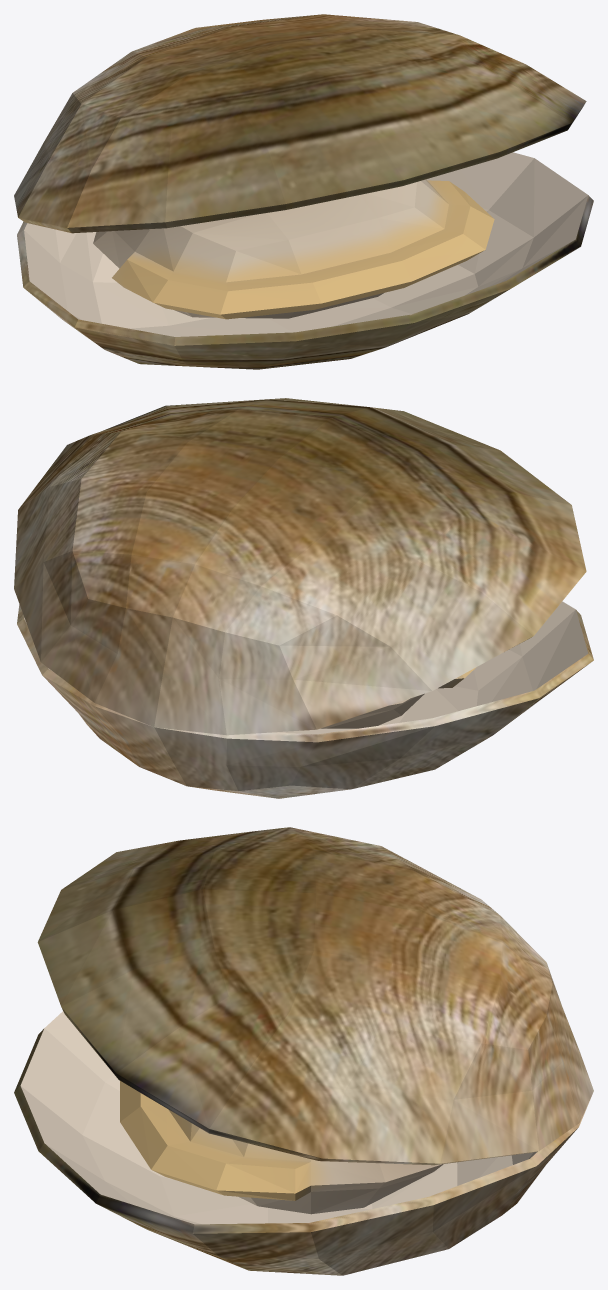
The model's file is Clam.glb.
3 renders of one model, top to bottom at view 1: azimuth 30°, elevation 25°; view 2: azimuth 150°, elevation 25°; view 3: azimuth 270°, elevation 25°, orthographic. The views are drawn at different scales.
Parts seen in each view (by area): view 1: Node; view 2: Node; view 3: Node.
Boxes of the visible parts, box(x1,y1,x2,y2) form: Node: box(14, 14, 593, 369); Node: box(14, 398, 593, 798); Node: box(14, 827, 593, 1275).
Bounding box in the file's own units: 1.11 × 0.6029 × 0.9629.
2 materials, 1 textured.
